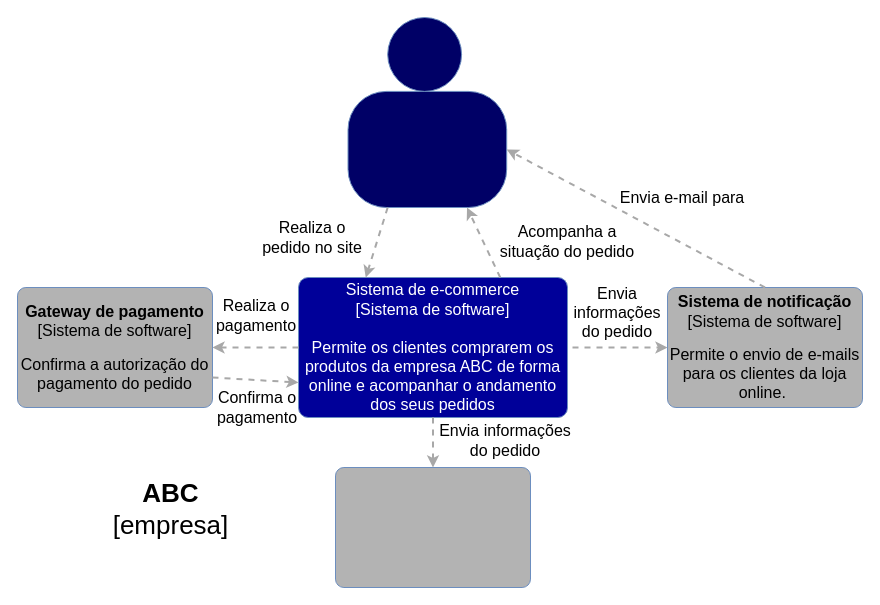
This 880x605 diagram has some shape labels left out. Each missing label, with the box of its shape:
Cliente [Pessoa] Cliente comprando pela loja online da empresa ABC: (347, 90, 507, 208)
Sistema de entrega [Software System] Realiza a entrega dos pedidos: (334, 466, 530, 588)
